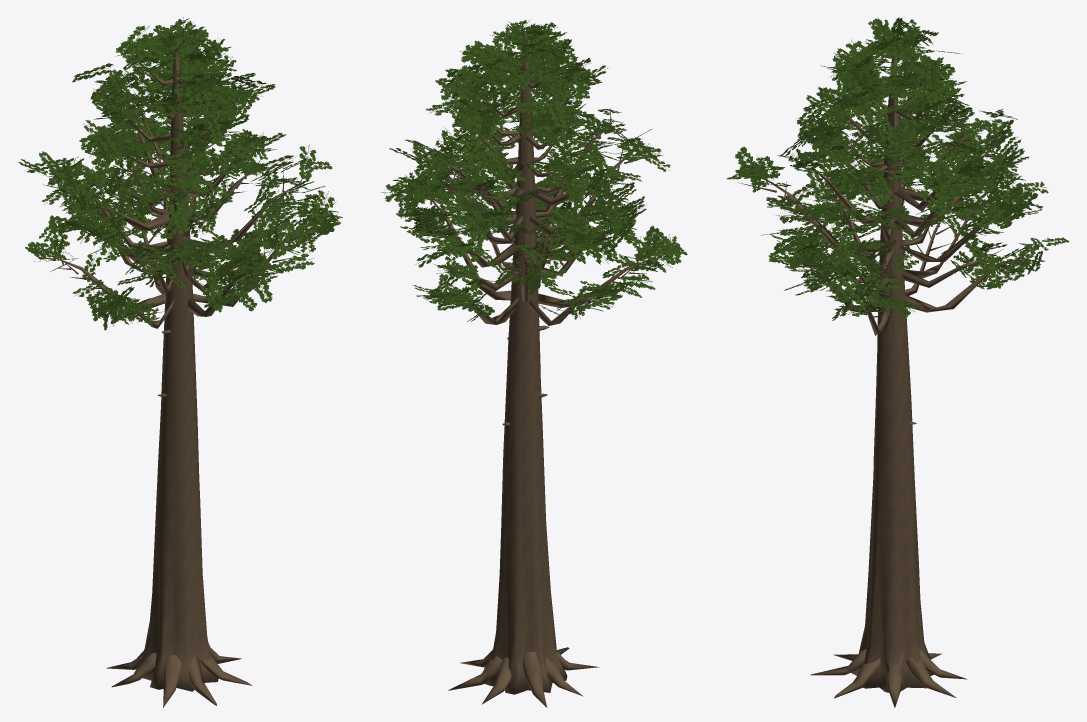
The model's file is GF2_Tree_A_Sentinel_LOD2.fbx.
The picture shows the model from 3 angles, left to right: view 1: azimuth 30°, elevation 25°; view 2: azimuth 150°, elevation 25°; view 3: azimuth 270°, elevation 25°; orthographic projection.
Visible parts, largest first — view 1: GF2_Tree_A_Sentinel_LOD2; view 2: GF2_Tree_A_Sentinel_LOD2; view 3: GF2_Tree_A_Sentinel_LOD2.
Part boxes in pixels (x1,y1,x2,y2): GF2_Tree_A_Sentinel_LOD2: (18, 17, 342, 707); GF2_Tree_A_Sentinel_LOD2: (381, 19, 687, 707); GF2_Tree_A_Sentinel_LOD2: (727, 17, 1069, 707).
Bounding box in the file's own units: 55.91 × 123 × 59.97.
